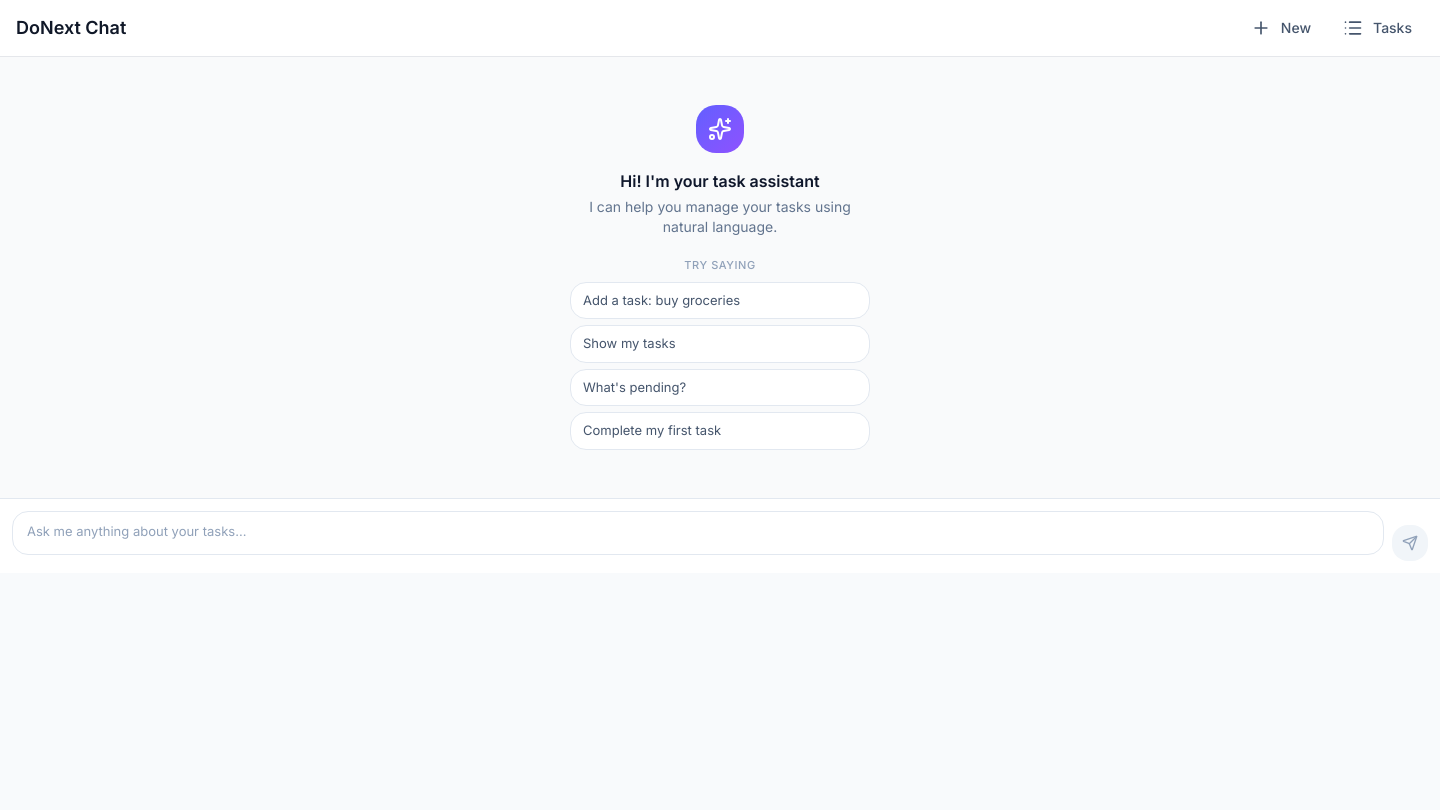
Test: Chat Integration Flow › handles API error and restores input
Step 1. Type "Hello" into the text box with placeholder "Ask me anything about your tasks..." → (698, 532), box [12,510,1384,554]
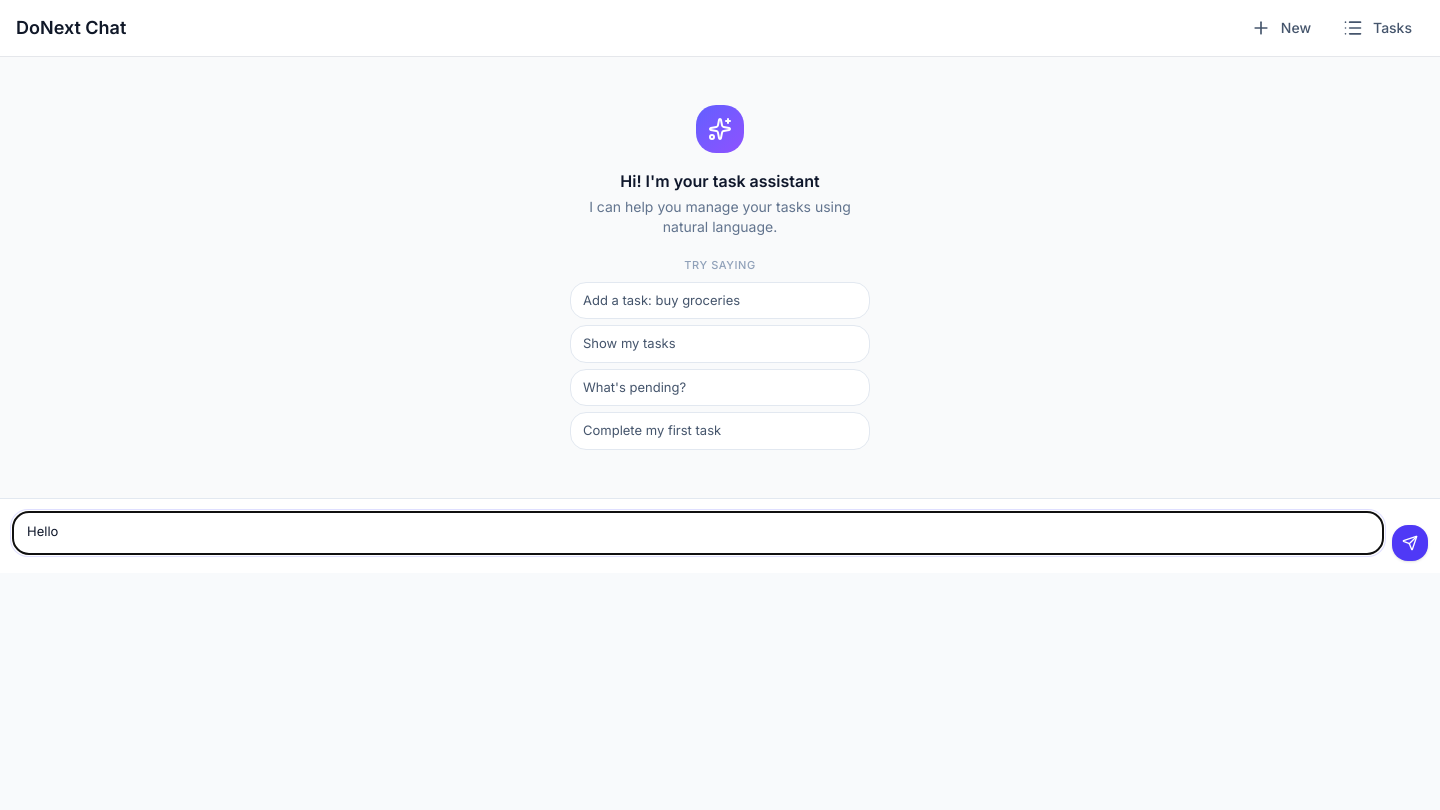
Step 2. Click the button named "Send message" → (1410, 542), box [1392,524,1428,560]
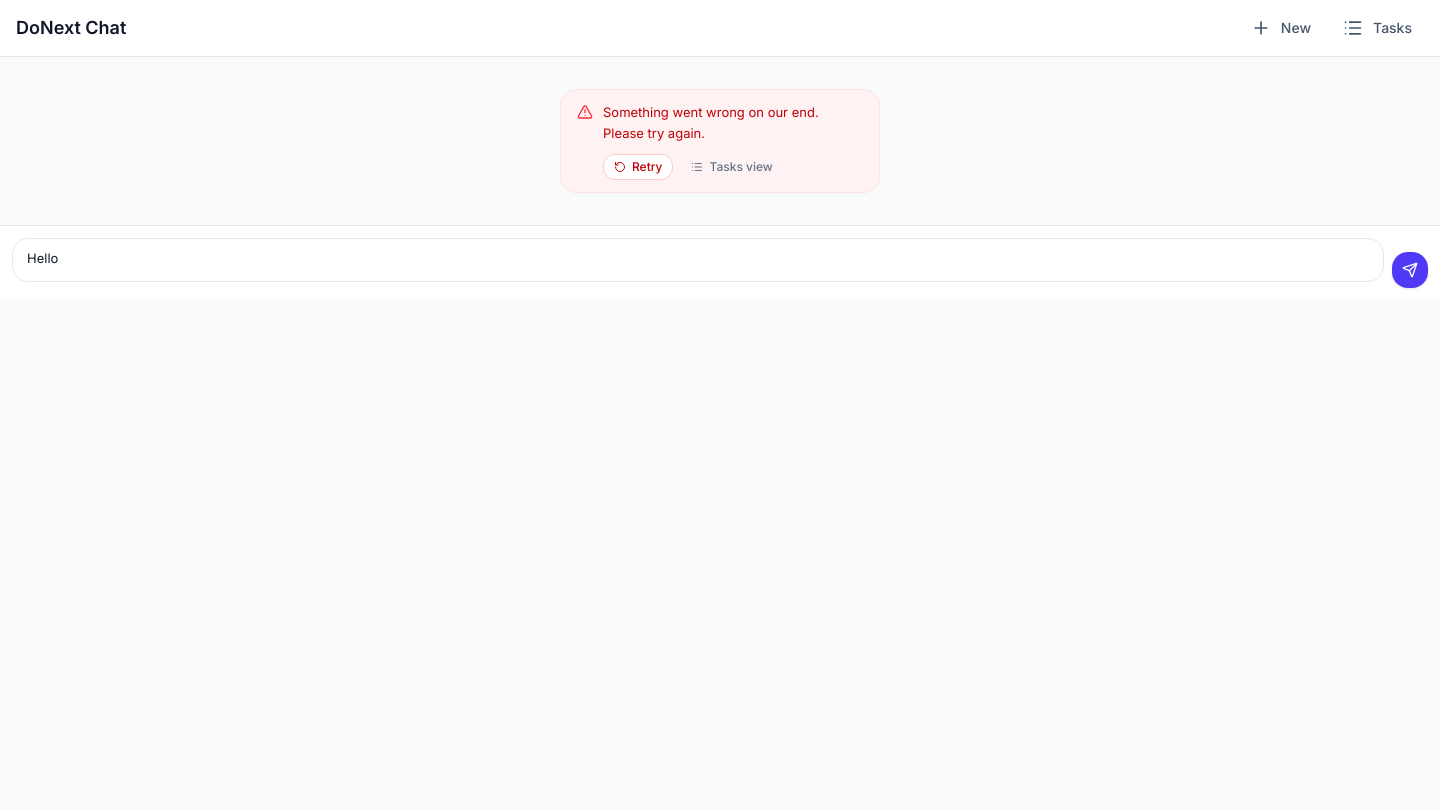
Result: the text "Something went wrong on our end. Please try again." is shown at [603,104,819,141]
